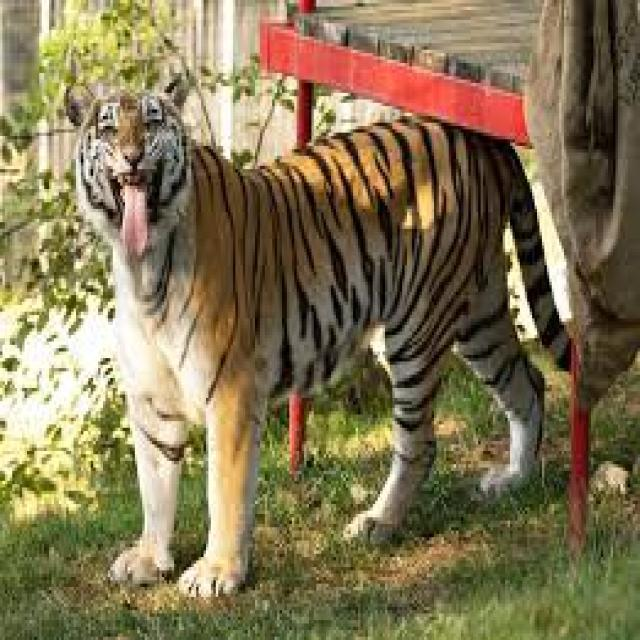Tiger: (61, 70, 576, 600)
